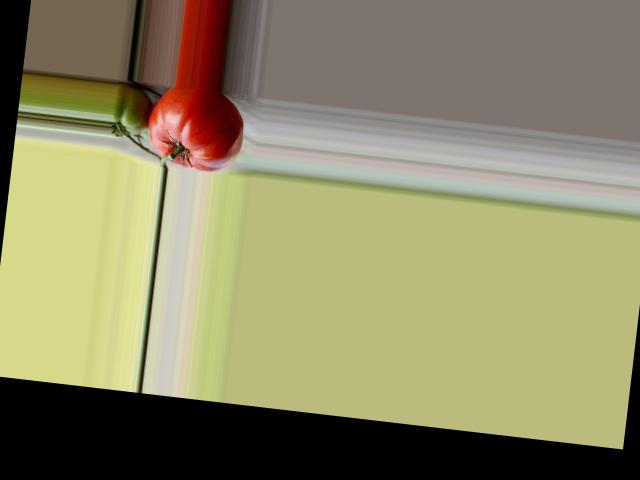tomato: (144, 82, 249, 175)
